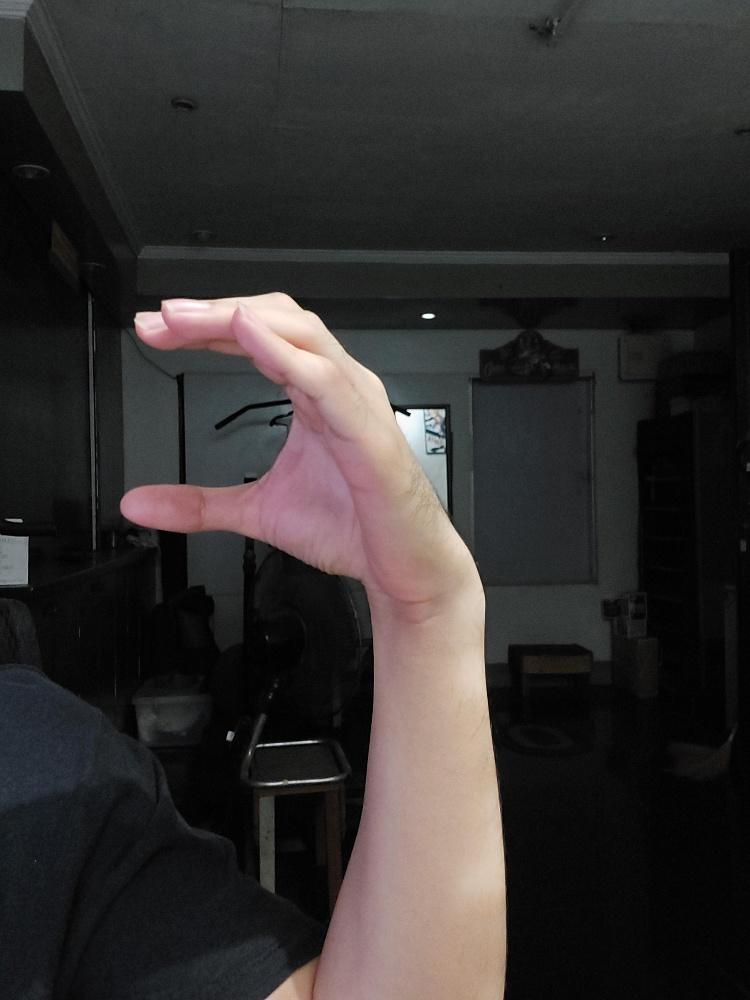c: (117, 290, 468, 602)
